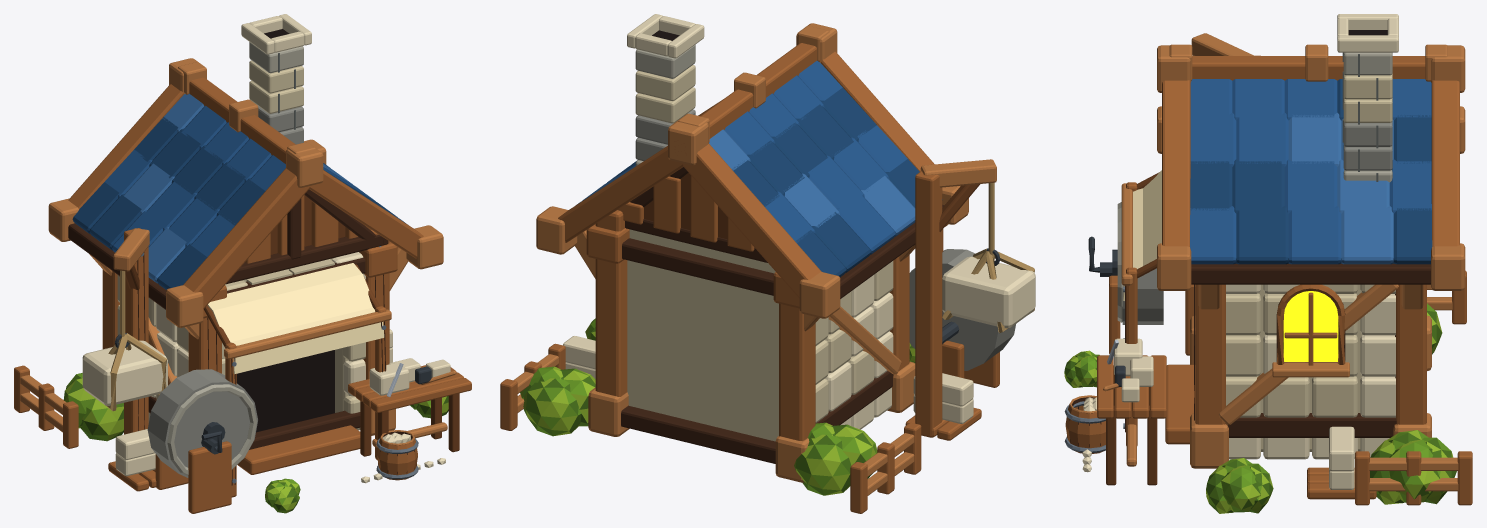
File: stone_cutter.glb
3 renders of one model, left to right at view 1: azimuth 30°, elevation 25°; view 2: azimuth 150°, elevation 25°; view 3: azimuth 270°, elevation 25°, orthographic. The views are drawn at different scales.
Visible parts, largest first — view 1: Linen work canopy, Circular grindstone, Workshop shadow opening, Carved roof verge, Dressed limestone.004, Workshop recessed floor, Carved roof verge.002, Grindstone trestle, Carved roof verge.001, Hoist upright, Gable tie beam, Ridge timber (+65 smaller); view 2: Cottage walls, Hoist upright, Carved roof verge.001, Dressed limestone.004, Corner upright.003, Corner upright.001, Wall cross beam.001, Carved roof verge.003, Wall cross beam.003, Circular grindstone, Ridge timber, Carved roof verge (+62 smaller); view 3: Roof eave.001, Carved roof verge.002, Carved roof verge.003, Corner upright.003, Corner upright.002, Ridge timber, Side wall lower tie.001, Warm arched window, Soft edged blue roof tile.038, Soft edged blue roof tile.037, Soft edged blue roof tile.039, Soft edged blue roof tile.036 (+82 smaller).
Boxes of the visible parts, x1,y1,x2,y2 form: Linen work canopy: [207, 263, 384, 373]; Circular grindstone: [147, 369, 257, 477]; Workshop shadow opening: [236, 350, 334, 432]; Carved roof verge: [183, 168, 310, 308]; Dressed limestone.004: [82, 340, 167, 405]; Workshop recessed floor: [237, 425, 360, 474]; Carved roof verge.002: [309, 170, 423, 258]; Grindstone trestle: [188, 441, 231, 513]; Carved roof verge.001: [68, 84, 183, 208]; Hoist upright: [124, 228, 148, 434]; Gable tie beam: [226, 235, 388, 284]; Ridge timber: [189, 77, 295, 163]; Cottage walls: [627, 229, 778, 441]; Hoist upright: [915, 171, 942, 437]; Carved roof verge.001: [683, 143, 821, 298]; Dressed limestone.004: [942, 256, 1035, 328]; Corner upright.003: [595, 210, 627, 396]; Corner upright.001: [779, 303, 815, 440]; Wall cross beam.001: [621, 405, 775, 463]; Carved roof verge.003: [558, 146, 683, 242]; Wall cross beam.003: [622, 238, 774, 295]; Circular grindstone: [909, 249, 1015, 370]; Ridge timber: [674, 43, 816, 151]; Carved roof verge: [821, 51, 934, 171]; Roof eave.001: [1191, 263, 1430, 284]; Carved roof verge.002: [1162, 80, 1190, 246]; Carved roof verge.003: [1431, 80, 1459, 246]; Corner upright.003: [1396, 284, 1426, 424]; Corner upright.002: [1195, 284, 1225, 424]; Ridge timber: [1192, 56, 1425, 80]; Side wall lower tie.001: [1225, 413, 1396, 437]; Warm arched window: [1283, 291, 1338, 361]; Soft edged blue roof tile.038: [1288, 206, 1341, 264]; Soft edged blue roof tile.037: [1236, 206, 1288, 264]; Soft edged blue roof tile.039: [1341, 206, 1393, 264]; Soft edged blue roof tile.036: [1190, 206, 1236, 264].
Bounding box in the file's own units: 4.49 × 4.2 × 3.58.
